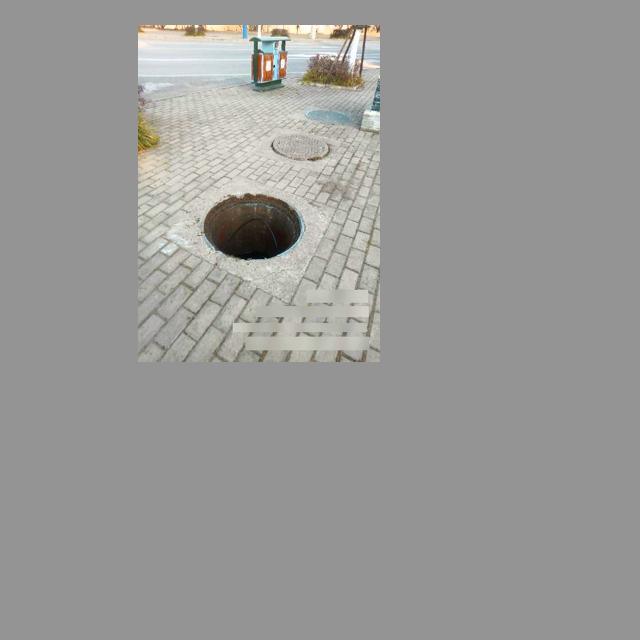good: (272, 132, 330, 161), (306, 108, 354, 126)
lose: (200, 191, 306, 261)
